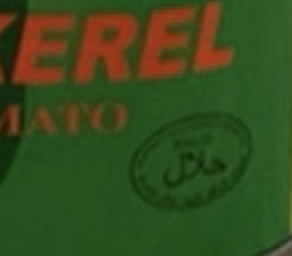halal: (165, 151, 220, 182)
